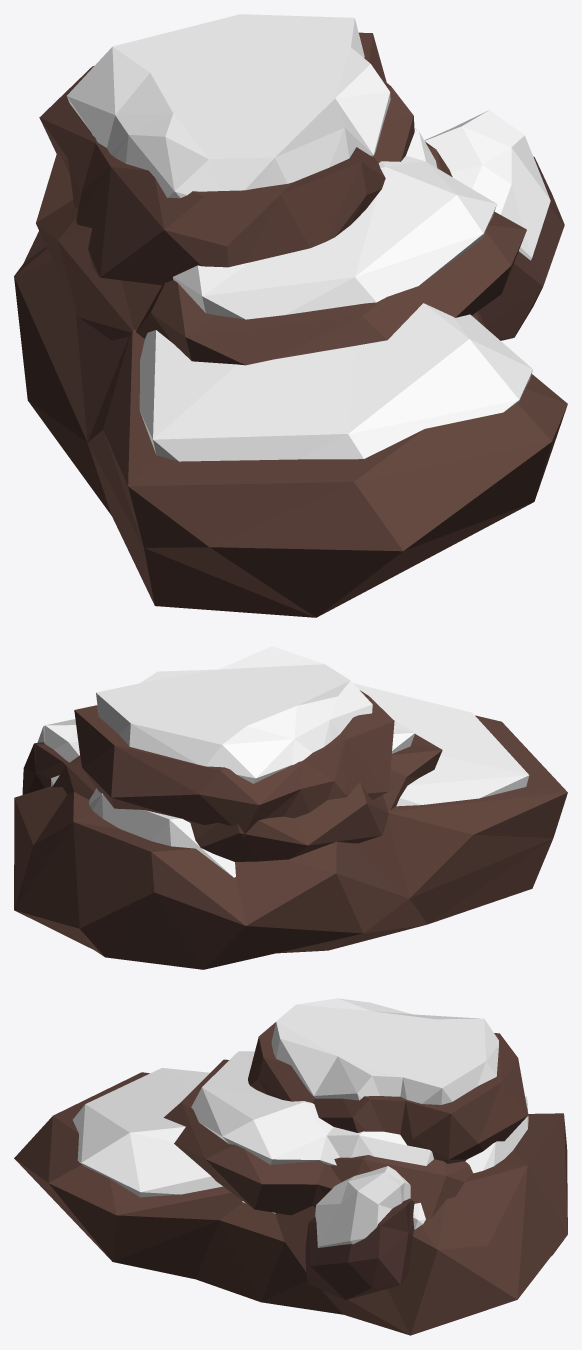
File: snow_rock_020.fbx
3 renders of one model, top to bottom at view 1: azimuth 30°, elevation 25°; view 2: azimuth 150°, elevation 25°; view 3: azimuth 270°, elevation 25°, orthographic. The views are drawn at different scales.
Visible parts, largest first — view 1: snow_rock_020; view 2: snow_rock_020; view 3: snow_rock_020.
Boxes of the visible parts, x1=… form: snow_rock_020: x1=14, y1=14, x2=567, y2=617; snow_rock_020: x1=14, y1=646, x2=567, y2=969; snow_rock_020: x1=14, y1=998, x2=567, y2=1335.
Bounding box in the file's own units: 989 × 1173 × 560.
